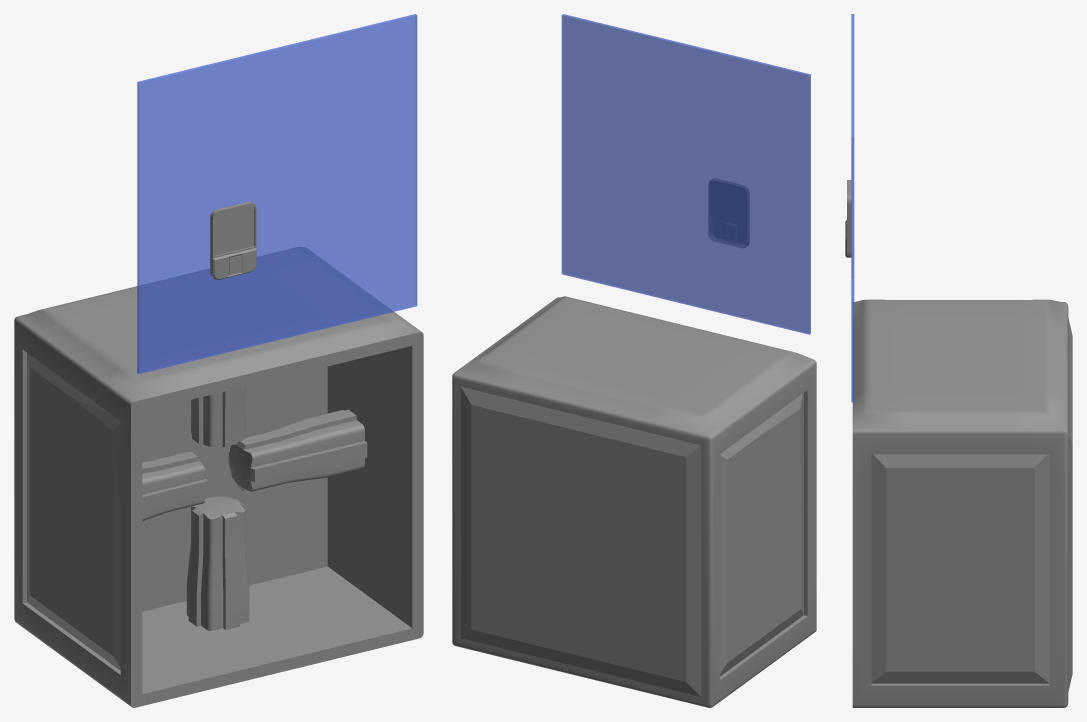
3 renders of one model, left to right at view 1: azimuth 30°, elevation 25°; view 2: azimuth 150°, elevation 25°; view 3: azimuth 270°, elevation 25°, orthographic. The views are drawn at different scales.
Visible parts, largest first — view 1: SShelf000; view 2: SShelf000; view 3: SShelf000.
Boxes of the visible parts, left/top/right/bottom form: SShelf000: left=14, top=14, right=423, bottom=707; SShelf000: left=452, top=14, right=816, bottom=707; SShelf000: left=845, top=14, right=1072, bottom=707.
Size of the model in its own units: 200 by 408 by 148.
